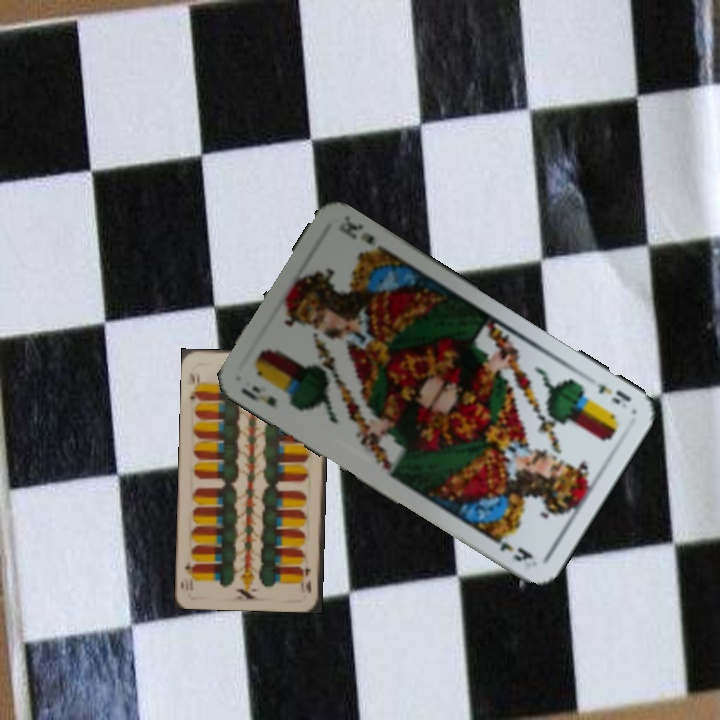E10: (186, 368, 203, 403), (299, 562, 314, 596)
EK: (237, 381, 280, 410), (593, 378, 633, 407)
